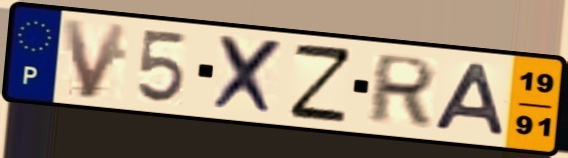5: (134, 26, 188, 106)
A: (430, 60, 511, 139)
R: (363, 52, 440, 128)
V: (58, 16, 134, 102)
X: (209, 32, 288, 119)
Z: (287, 41, 354, 124)
